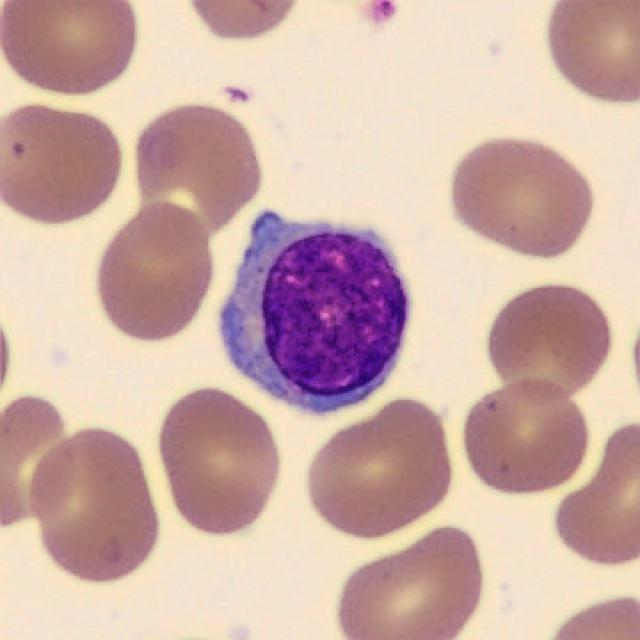Linfocito: (220, 213, 411, 414)
